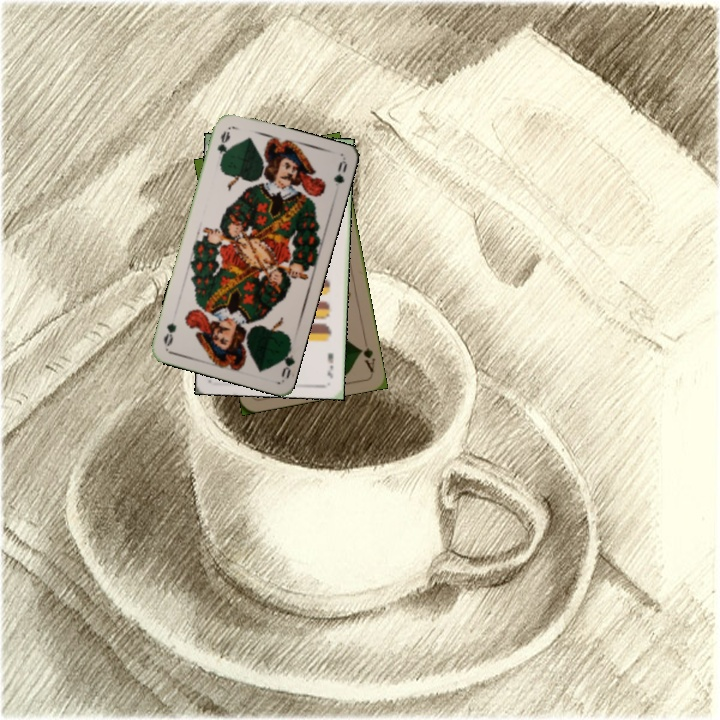E7: (323, 349, 336, 381)
GA: (356, 344, 378, 375)
GO: (275, 340, 297, 381), (213, 127, 233, 166)
